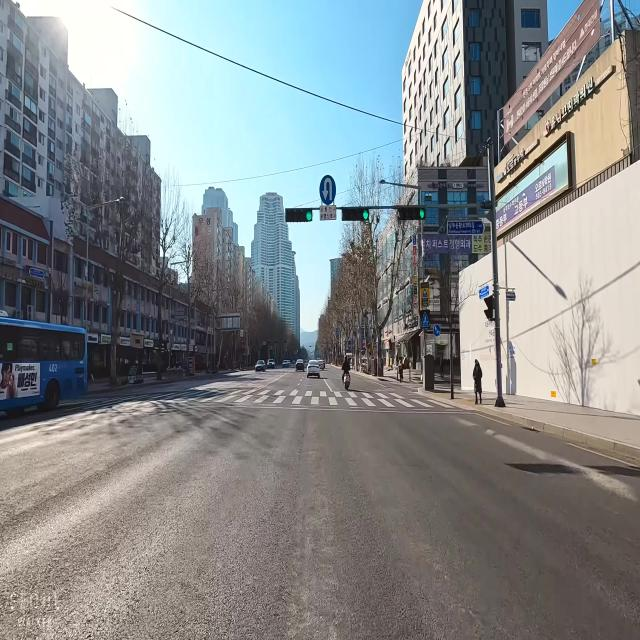Green Light: (362, 208, 369, 220), (419, 208, 425, 220), (306, 210, 312, 221)
